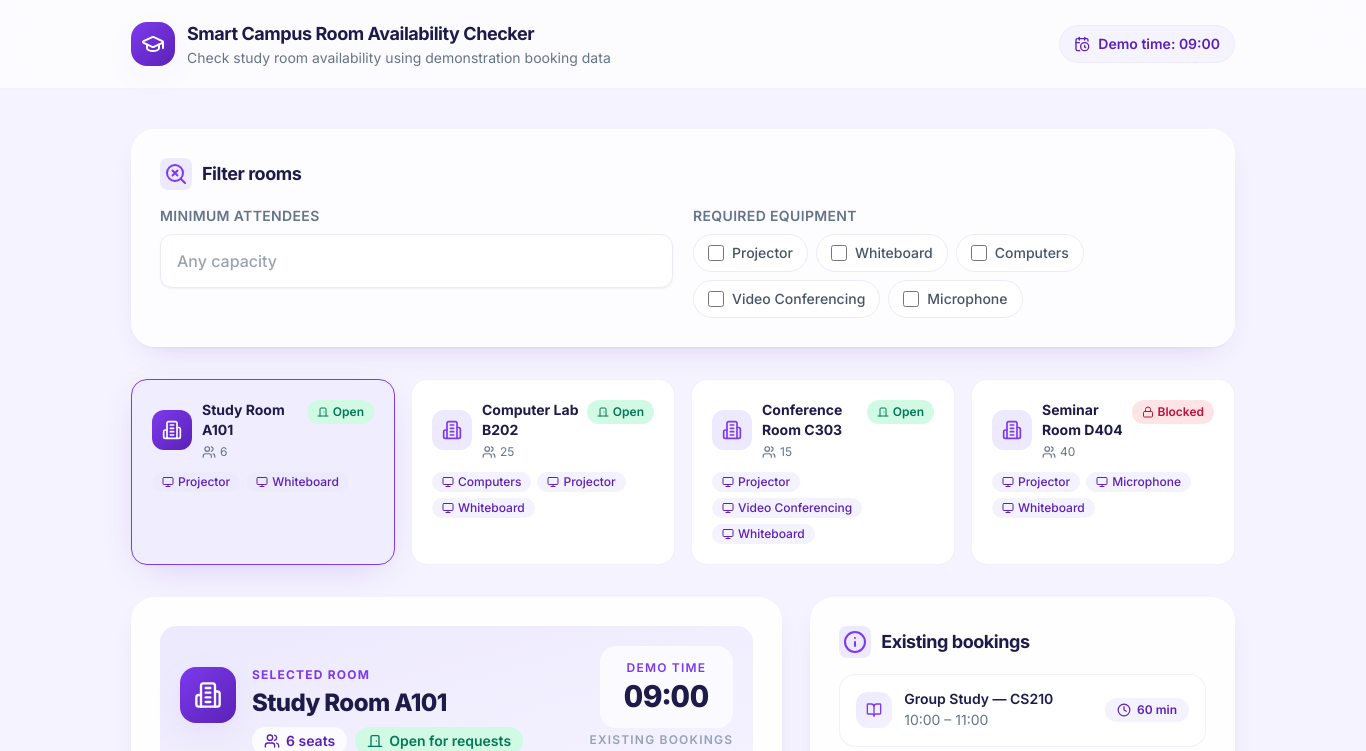
Test: F2 — equipment filtering via UI › filters rooms to only those with the selected equipment
Click the checkbox labelled "Computers". click: [979, 253]
box: [971,245,987,261]
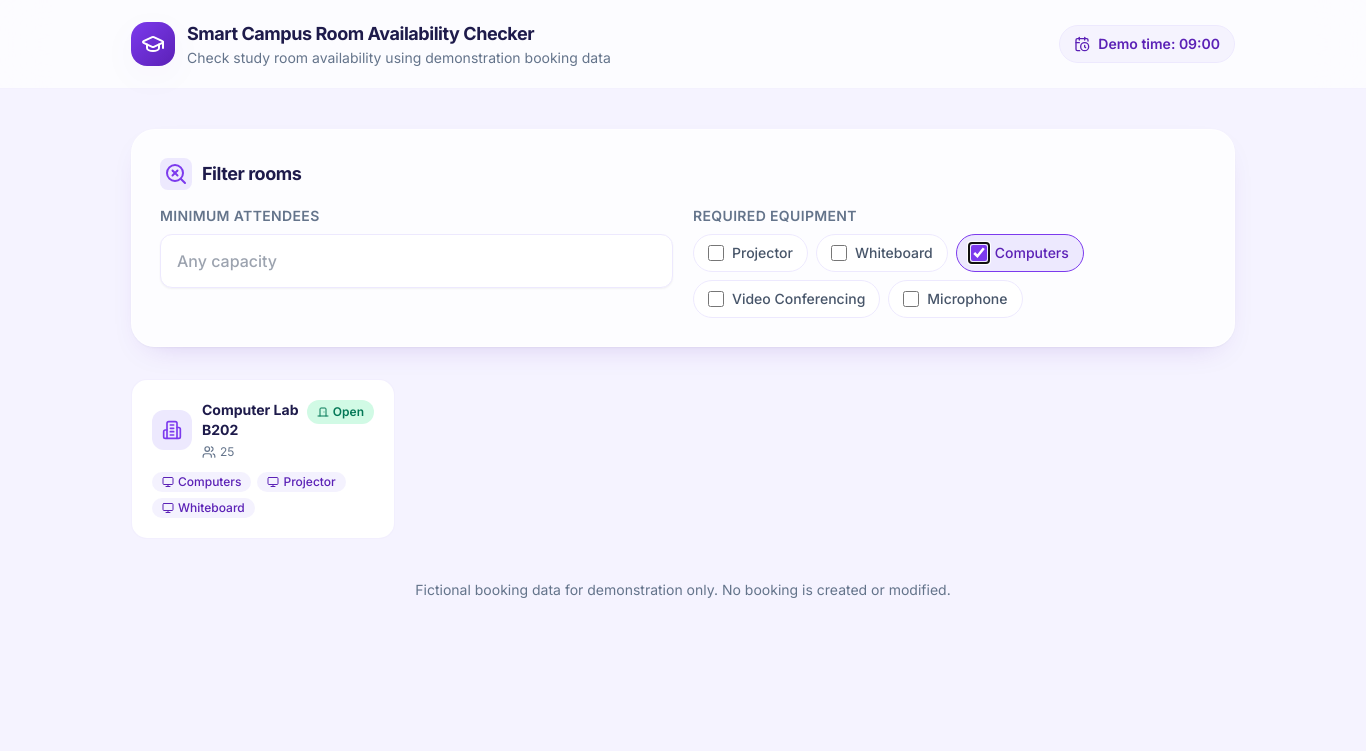
Expected: the button "Study Room A101" is gone
Expected: the button "Conference Room C303" is gone
Expected: the button "Seminar Room D404" is gone
